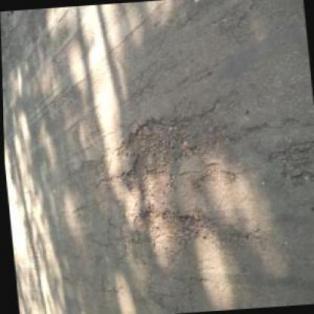Hueco: (112, 113, 194, 206), (129, 204, 208, 248)
